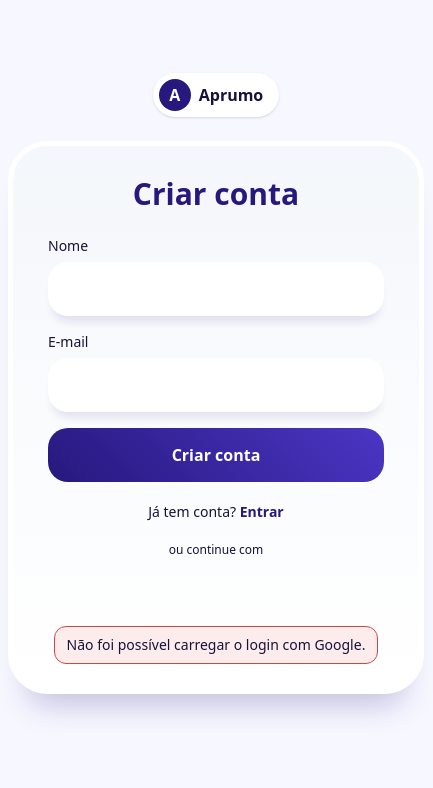
Test case: CadastroPage › sucesso_vai_para_confirmar_com_o_email_preenchido_e_fora_da_url
Type "Ana" into the field labelled "Nome" at [216, 288], box [48,262,384,316]
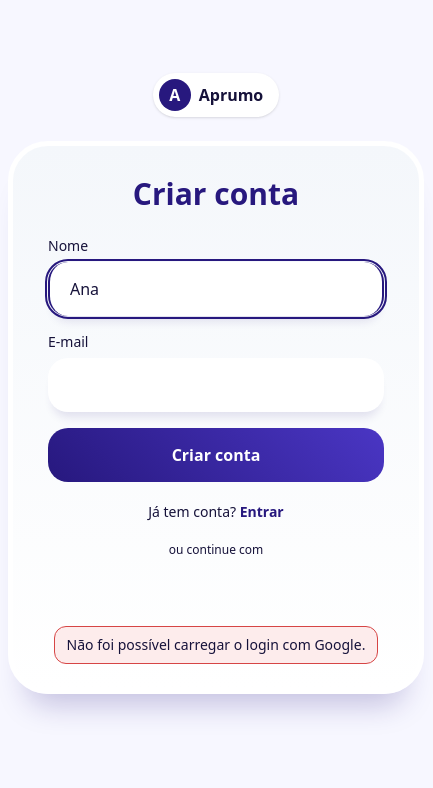
Type "ana@exemplo.com" into the field labelled "E-mail" at [216, 384], box [48,358,384,412]
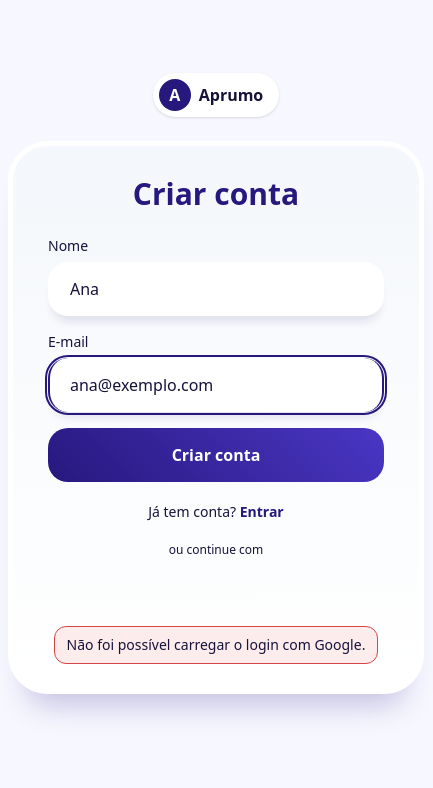
Click the button "Criar conta" at [216, 454], box [48,428,384,482]
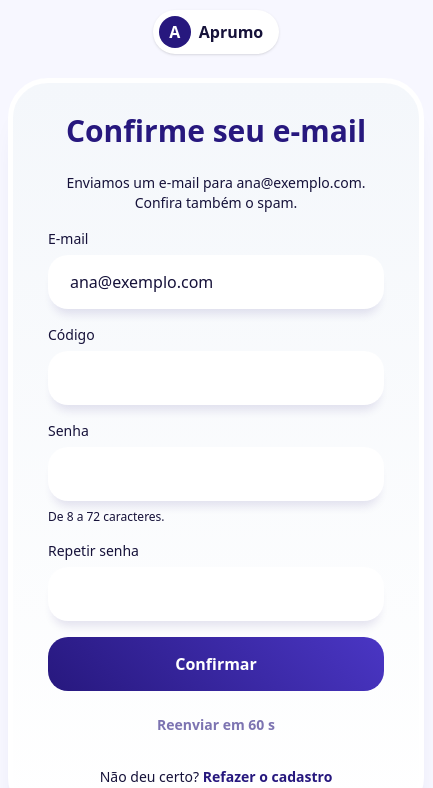
Check: the heading "Confirme seu e-mail" is shown, box [48,108,384,153]
Check: the field labelled "E-mail" holds "ana@exemplo.com", box [48,255,384,309]
Check: the text "Enviamos um e-mail para ana@exemplo.com." is shown, box [66,173,366,212]
